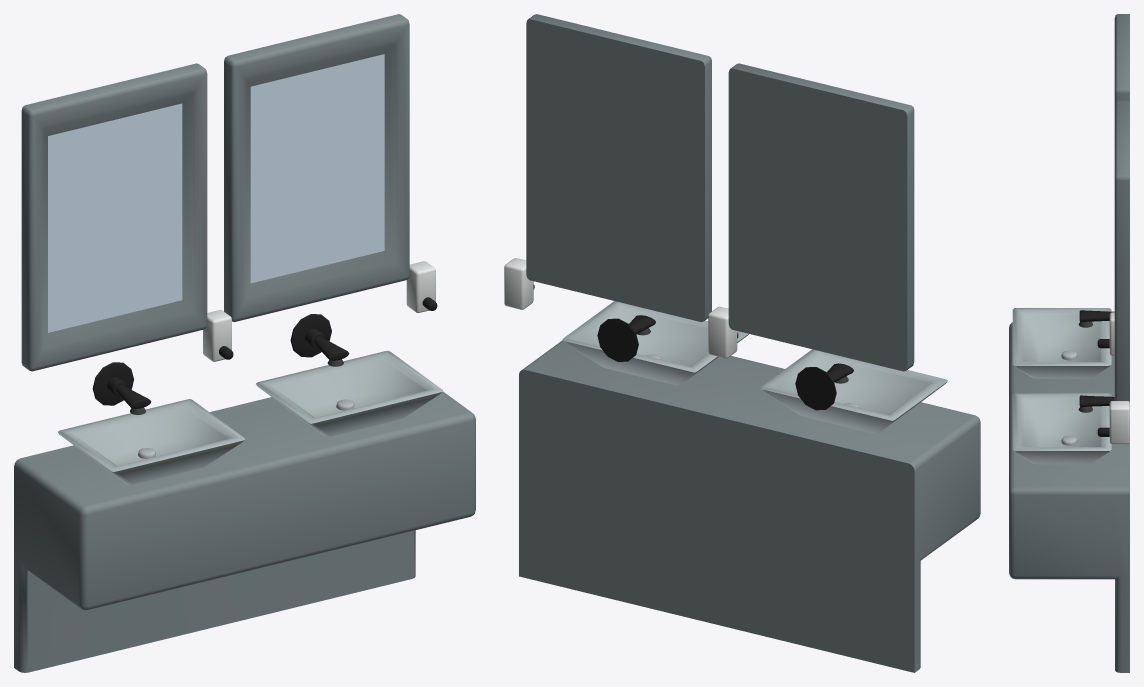
Rendered from Sink.fbx.
3 views of the same model, side by side, from view 1: azimuth 30°, elevation 25°; view 2: azimuth 150°, elevation 25°; view 3: azimuth 270°, elevation 25° (orthographic). The views are drawn at different scales.
Visible parts, largest first — view 1: Sink, Sconce-Mirror-1, Sconce-Mirror-2, Sink-fountain-2, Sink-fountain-1, Sink-Soap-Dispenser-2.001, Sink-Soap-Dispenser-2; view 2: Sink, Sconce-Mirror-1, Sconce-Mirror-2, Sink-fountain-2, Sink-fountain-1, Sink-Soap-Dispenser-2.001, Sink-Soap-Dispenser-2; view 3: Sink, Sconce-Mirror-2, Sconce-Mirror-1, Sink-Soap-Dispenser-2.001, Sink-fountain-2, Sink-fountain-1, Sink-Soap-Dispenser-2.
Part boxes in pixels (left/top/right/bottom): Sink: left=14, top=350, right=475, bottom=672; Sconce-Mirror-1: left=21, top=63, right=207, bottom=371; Sconce-Mirror-2: left=224, top=14, right=409, bottom=322; Sink-fountain-2: left=290, top=314, right=349, bottom=366; Sink-fountain-1: left=92, top=362, right=151, bottom=414; Sink-Soap-Dispenser-2.001: left=406, top=261, right=437, bottom=312; Sink-Soap-Dispenser-2: left=203, top=310, right=233, bottom=361; Sink: left=519, top=301, right=980, bottom=672; Sconce-Mirror-1: left=728, top=63, right=914, bottom=371; Sconce-Mirror-2: left=526, top=14, right=711, bottom=321; Sink-fountain-2: left=597, top=315, right=655, bottom=361; Sink-fountain-1: left=795, top=363, right=853, bottom=410; Sink-Soap-Dispenser-2.001: left=504, top=258, right=534, bottom=309; Sink-Soap-Dispenser-2: left=708, top=306, right=738, bottom=358; Sink: left=1009, top=308, right=1129, bottom=672; Sconce-Mirror-2: left=1114, top=101, right=1129, bottom=402; Sconce-Mirror-1: left=1114, top=14, right=1129, bottom=104; Sink-Soap-Dispenser-2.001: left=1097, top=401, right=1129, bottom=444; Sink-fountain-2: left=1078, top=395, right=1114, bottom=412; Sink-fountain-1: left=1078, top=310, right=1114, bottom=327; Sink-Soap-Dispenser-2: left=1097, top=312, right=1114, bottom=355.
Size of the model in its own units: 2.08 by 2.7 by 0.6.
